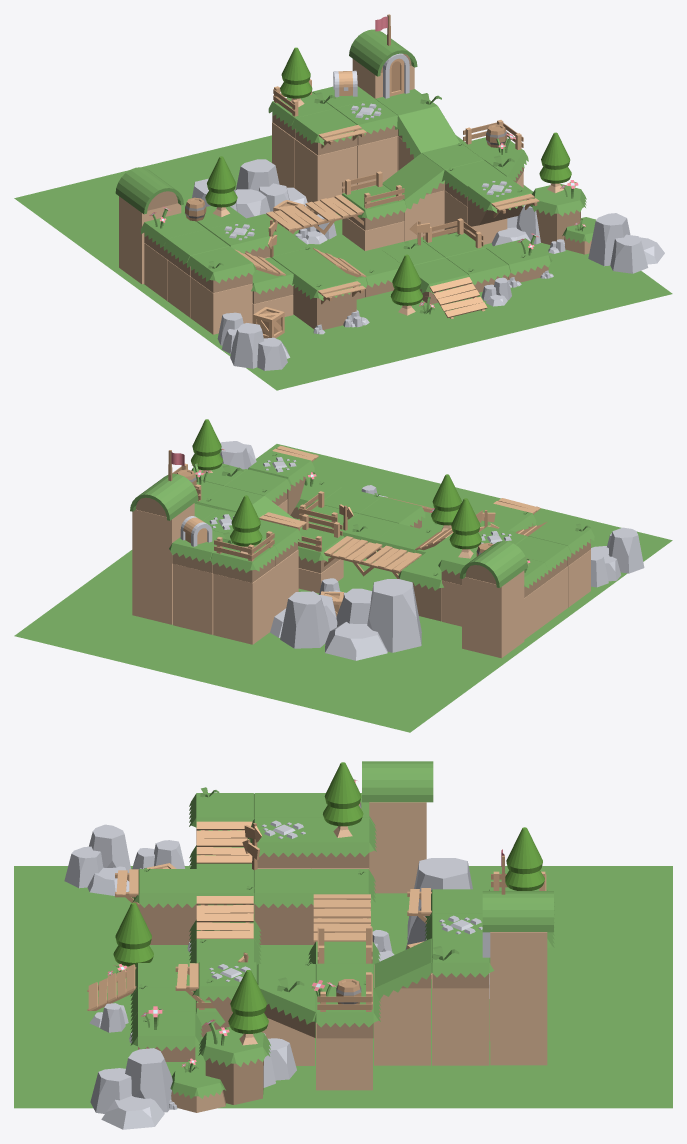
Rendered from environment-model.glb.
3 views of the same model, one above another, from view 1: azimuth 30°, elevation 25°; view 2: azimuth 150°, elevation 25°; view 3: azimuth 270°, elevation 25° (orthographic). The views are drawn at different scales.
Parts seen in each view (by area): view 1: Plane.003, blockLong.001, rocks.025, blockDirt.021, blockDirt.008, blockHalf.014, blockDirt.007, blockHexagon, blockSlopeHalf.001, rocks.024, blockCurve.001, blockHalf.025 (+49 smaller); view 2: Plane.003, rocks.023, blockDirt.014, blockDirt.007, blockDirt.023, rocks.022, blockDirt.017, blockLong.002, blockCurve.001, blockCurve.002, blockHalf.026, blockCliff.001 (+33 smaller); view 3: Plane.003, blockDirt.014, blockLong.002, blockLong.001, rocks.025, blockDirt.007, blockDirt.012, blockDirt.010, blockHexagon, rocks.024, blockDirt.011, blockCurve.001 (+39 smaller).
Part boxes in pixels (x1,y1,x2,y2): Plane.003: (14, 135, 672, 390); blockLong.001: (271, 247, 359, 329); rocks.025: (588, 213, 664, 273); blockDirt.021: (295, 139, 357, 214); blockDirt.008: (190, 276, 252, 334); blockHalf.014: (187, 246, 256, 292); blockDirt.007: (119, 196, 181, 284); blockHexagon: (529, 184, 586, 244); blockSlopeHalf.001: (394, 106, 460, 158); rocks.024: (230, 323, 290, 370); blockCurve.001: (115, 167, 183, 214); blockHalf.025: (291, 108, 357, 155); Plane.003: (14, 444, 672, 732); rocks.023: (325, 579, 421, 660); blockDirt.014: (132, 503, 194, 624); blockDirt.007: (462, 570, 524, 658); blockDirt.023: (213, 566, 275, 644); rocks.022: (270, 591, 337, 648); blockDirt.017: (173, 564, 213, 634); blockLong.002: (398, 537, 456, 621); blockCurve.001: (459, 541, 527, 587); blockCurve.002: (130, 473, 198, 520); blockHalf.026: (210, 542, 278, 582); blockCliff.001: (248, 451, 314, 514); Plane.003: (14, 866, 672, 1108); blockDirt.014: (490, 932, 547, 1065); blockLong.002: (254, 869, 375, 944); blockLong.001: (132, 869, 253, 944); rocks.025: (90, 1048, 172, 1129); blockDirt.007: (369, 802, 426, 893); blockDirt.012: (432, 973, 489, 1065); blockDirt.010: (374, 964, 430, 1065); blockHexagon: (198, 1027, 270, 1104); rocks.024: (64, 824, 130, 895); blockDirt.011: (316, 1023, 372, 1090); blockCurve.001: (362, 761, 433, 802).
Size of the model in its own units: 18.67 by 6.41 by 19.36.
